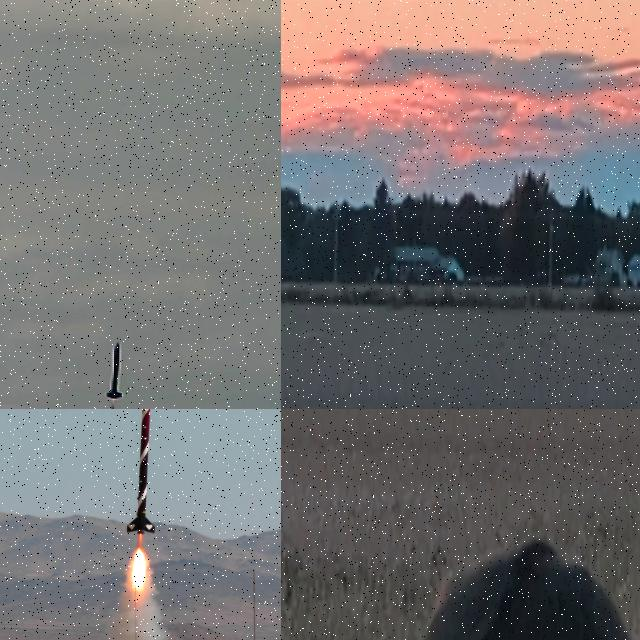Rocket: (124, 409, 157, 535), (106, 342, 123, 399)
